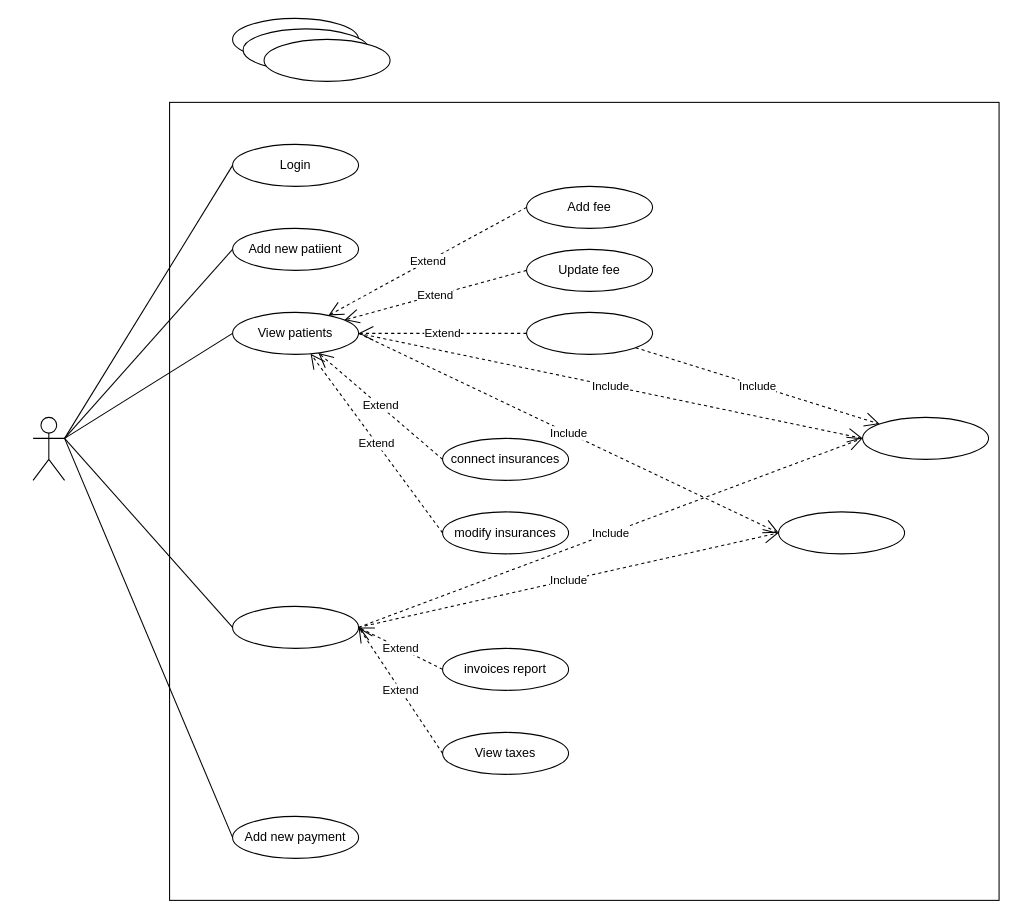
Image size: 1017x919. Some labels were removed from this diagram. The shapes that lost their labels are listed below. From the top down, each one's centre as x and y in pixels, then its label:
At pixel 589 332: "Total fee".
At pixel 48 448: "Employees".
At pixel 925 437: "export".
At pixel 841 532: "Browse".
At pixel 295 626: "View payments".
